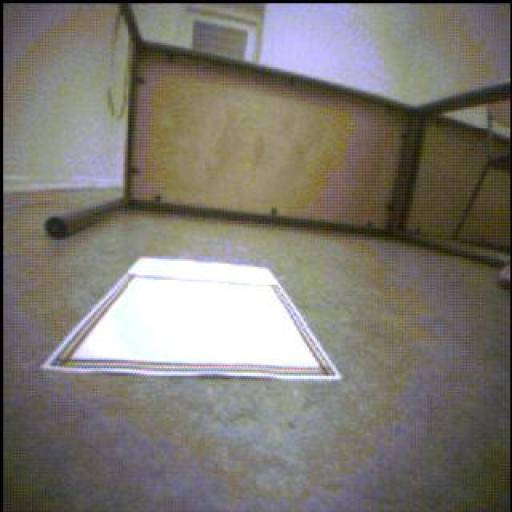Pad: (44, 259, 342, 380)
